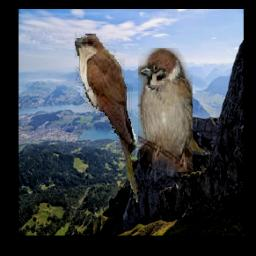Cuckoo: (73, 35, 139, 204)
Sparrow: (138, 48, 193, 172)
